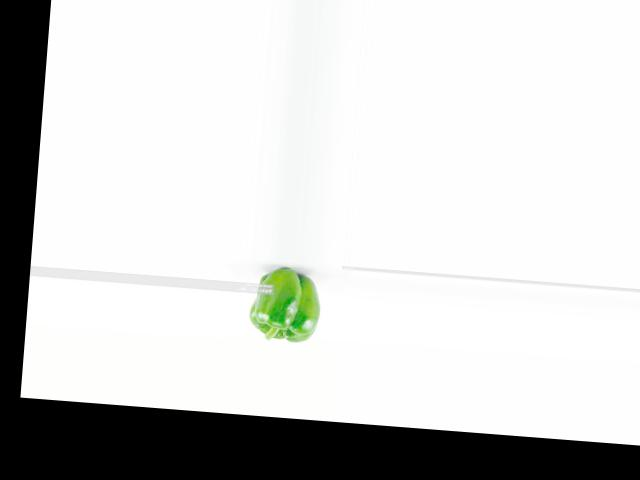bell_pepper: (248, 262, 326, 348)
